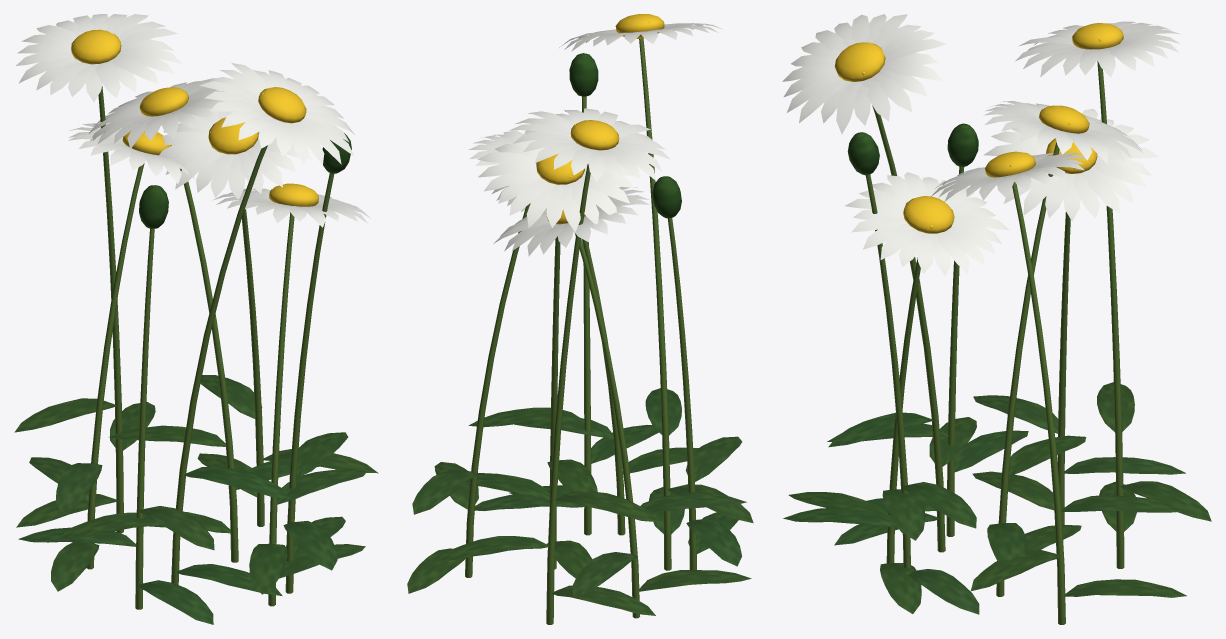
The model's file is daisy.glb.
The picture shows the model from 3 angles, left to right: view 1: azimuth 30°, elevation 25°; view 2: azimuth 150°, elevation 25°; view 3: azimuth 270°, elevation 25°; orthographic projection. The views are drawn at different scales.
Visible parts, largest first — view 1: Flowers, Foliage, Stems; view 2: Foliage, Flowers, Stems; view 3: Flowers, Foliage, Stems.
Part boxes in pixels (<box>): Flowers: <box>16,14,370,227</box>; Foliage: <box>14,133,378,624</box>; Stems: <box>86,86,334,609</box>; Foliage: <box>407,53,753,615</box>; Flowers: <box>468,14,722,256</box>; Stems: <box>465,38,696,624</box>; Flowers: <box>782,14,1180,275</box>; Foliage: <box>783,123,1211,614</box>; Stems: <box>865,61,1124,624</box>.
Size of the model in its own units: 0.2098 by 0.32 by 0.2296.
Materials: 3 (1 with a texture image).
